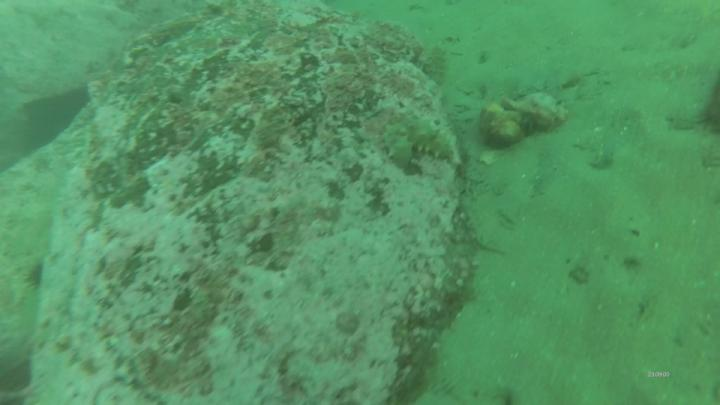holothurian: (384, 117, 457, 168)
